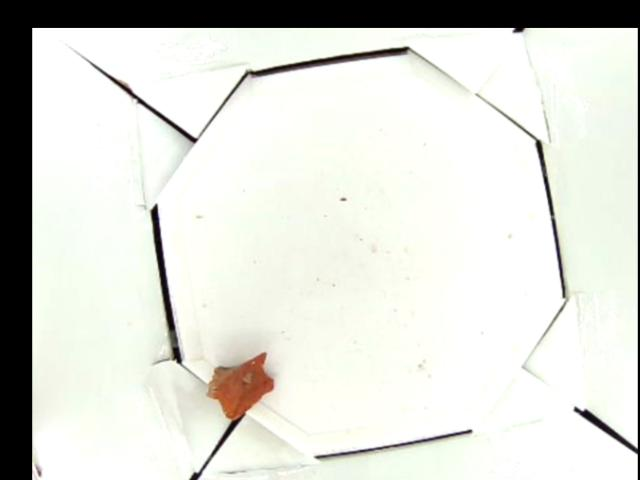Brisk: (207, 350, 275, 422)
